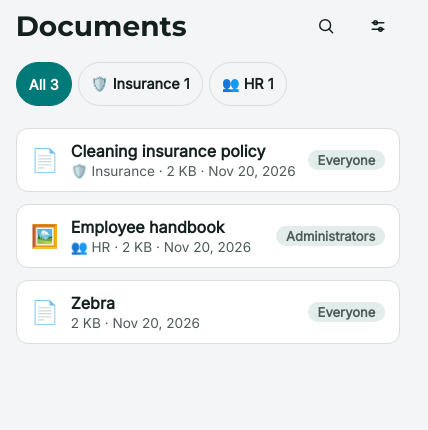
Documents page › shows every document again when the chips are turned off with a category picked
The width and height of the screenshot is (428, 430).
Expected: the text "Zebra" is shown, [71,293,115,313]
Click the button "👥 HR 1": click(248, 84) [209,62,286,106]
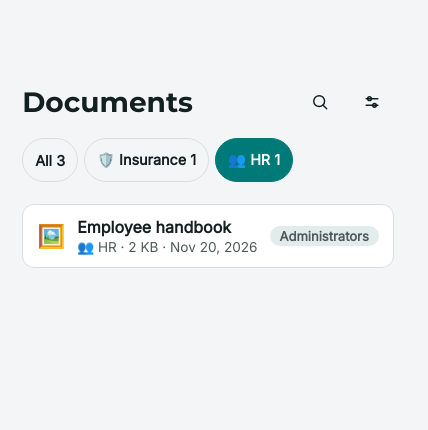
Result: the button "Zebra" is gone
Click the button named "View and categories": click(372, 102) [350,80,394,124]
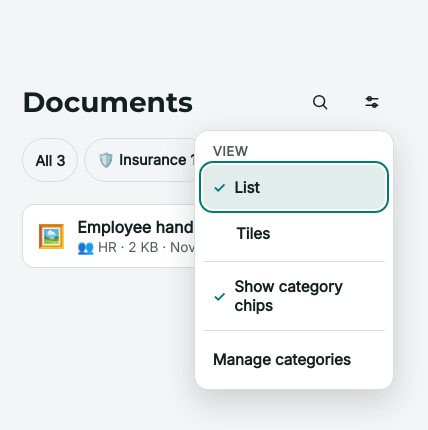
Click the menu item "Show category chips": click(294, 296) [203,268,385,324]
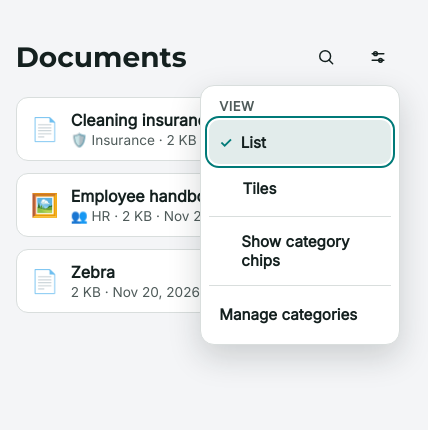
Result: the text "Zebra" is shown at [71,262,115,282]
